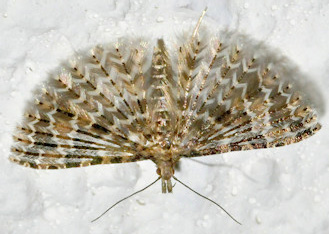Alucitidae: (4, 6, 320, 222)
moth: (6, 8, 322, 224)
